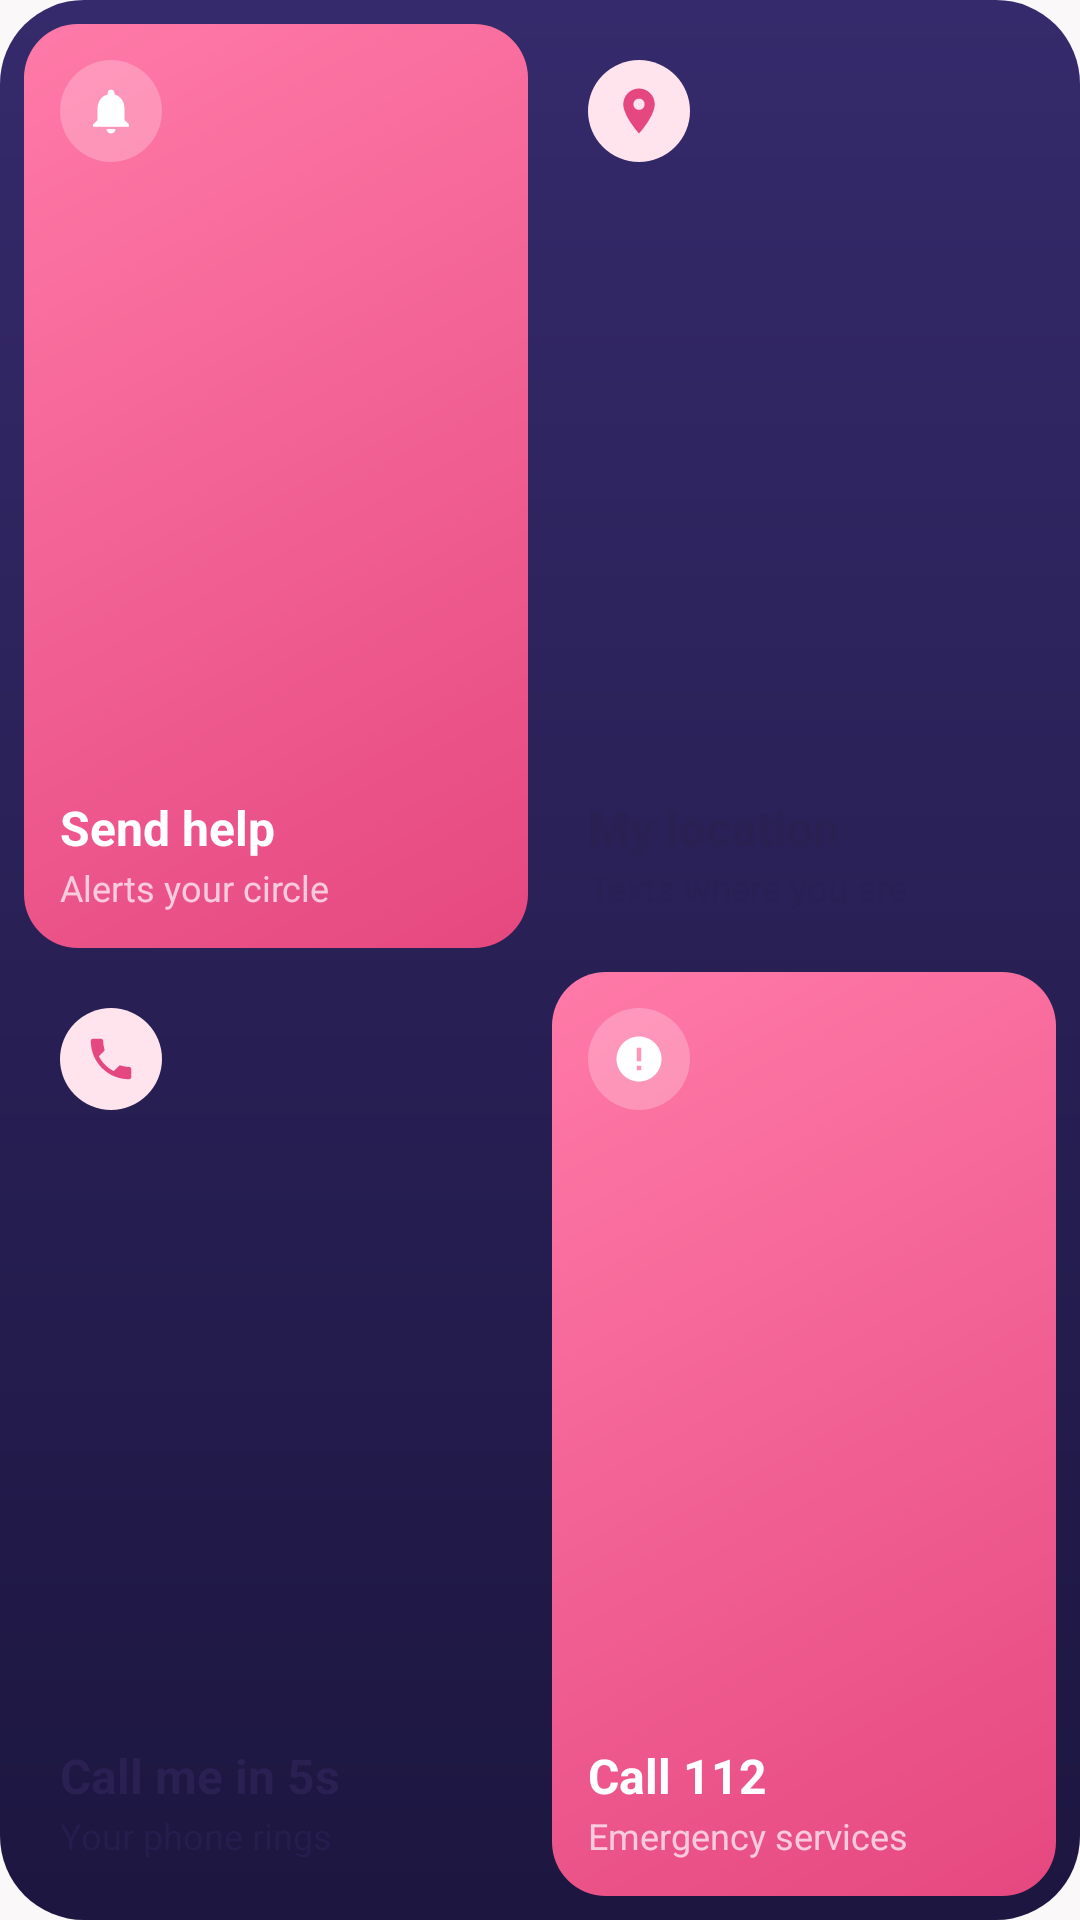

Icons on this 1080×1920 Android screen, each with its box as bbox=[x1, y1, x2, y2]:
bell: bbox=[60, 60, 162, 162]
phone: bbox=[60, 1008, 162, 1110]
pin: bbox=[588, 60, 690, 162]
sos: bbox=[588, 1008, 690, 1110]
